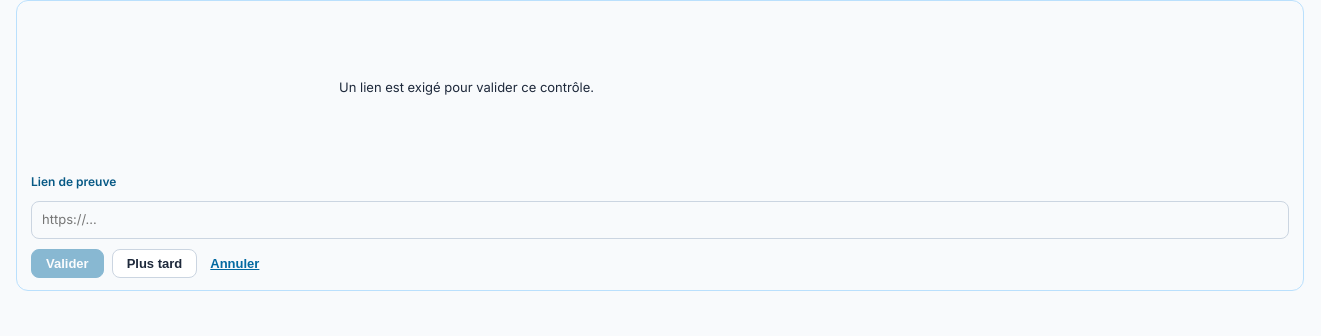
Test: ItemDrawerComponent › demande de preuve › Lien : refuse une adresse non http(s), accepte une adresse https
In the field labelled "Lien de preuve": (660, 220) [31, 201, 1289, 238], type "ftp://serveur/doc"
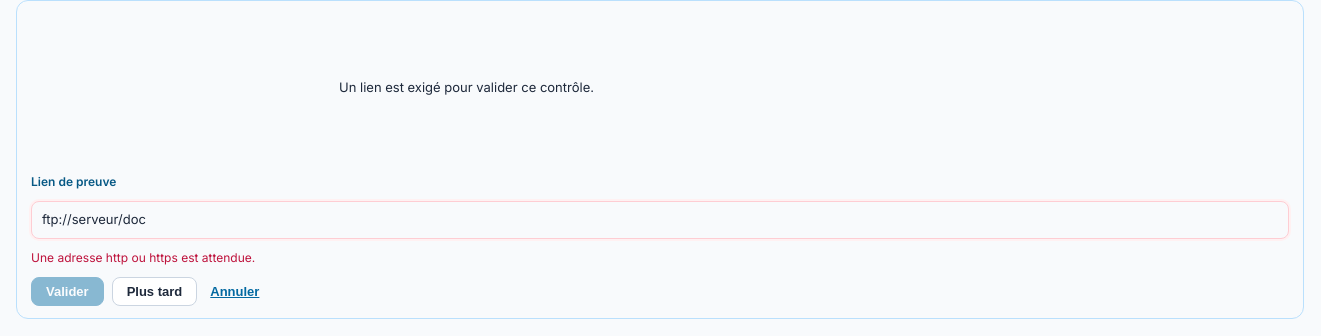
Expected: the button "Valider" is disabled, [31, 276, 104, 306]
Result: the message with class "field-error" shows "http ou https" at [31, 250, 255, 264]
Replace the text in the field labelled "Lien de preuve" with "https://wiki.example.org/api": (660, 220) [31, 201, 1289, 238]
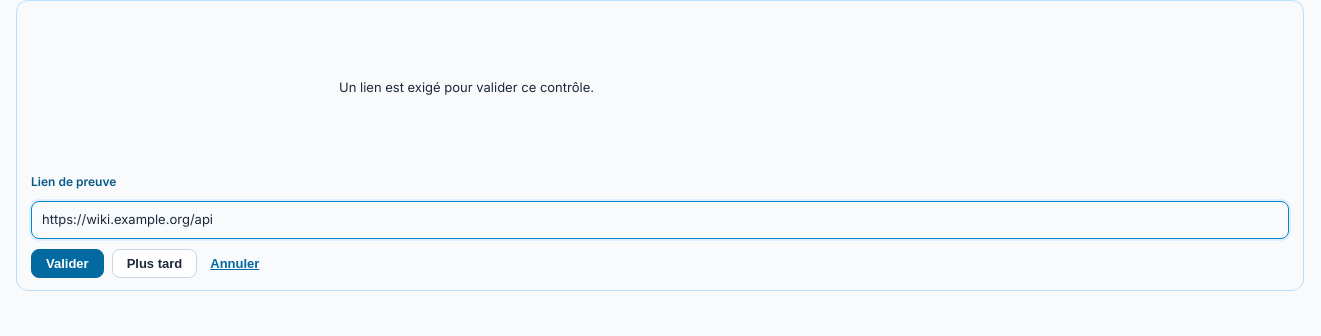
Result: the message with class "field-error" is gone
Result: the button "Valider" is enabled at [31, 248, 104, 278]
